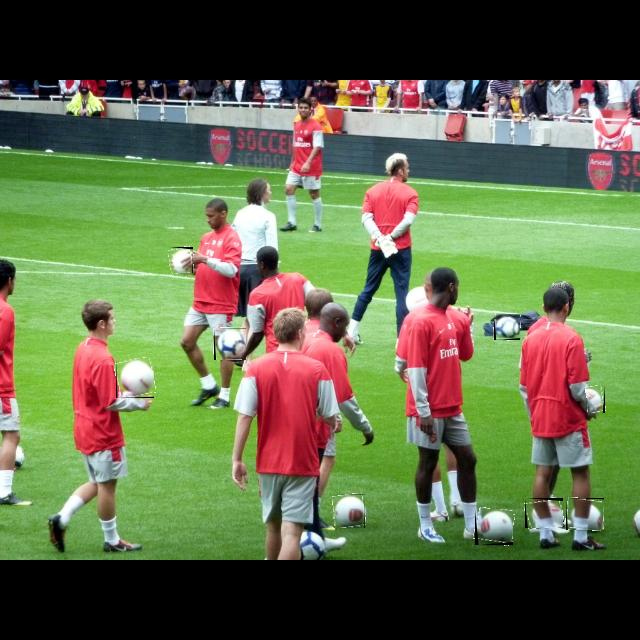Football: (116, 358, 154, 398), (475, 509, 513, 545), (566, 498, 604, 530), (525, 498, 563, 528), (333, 494, 365, 528), (214, 328, 246, 360), (494, 314, 520, 340), (169, 247, 193, 273), (587, 385, 605, 413)
